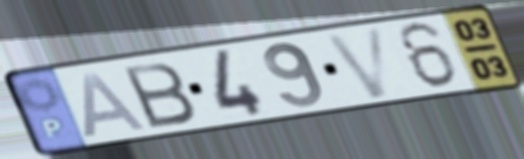4: (209, 46, 267, 120)
6: (396, 20, 461, 92)
9: (261, 41, 327, 110)
A: (80, 69, 151, 140)
B: (118, 59, 200, 131)
V: (321, 23, 393, 102)
